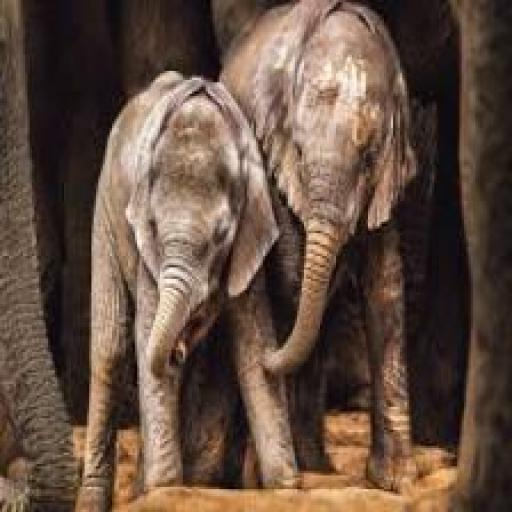Elephant: (178, 0, 469, 512), (44, 39, 300, 512)
